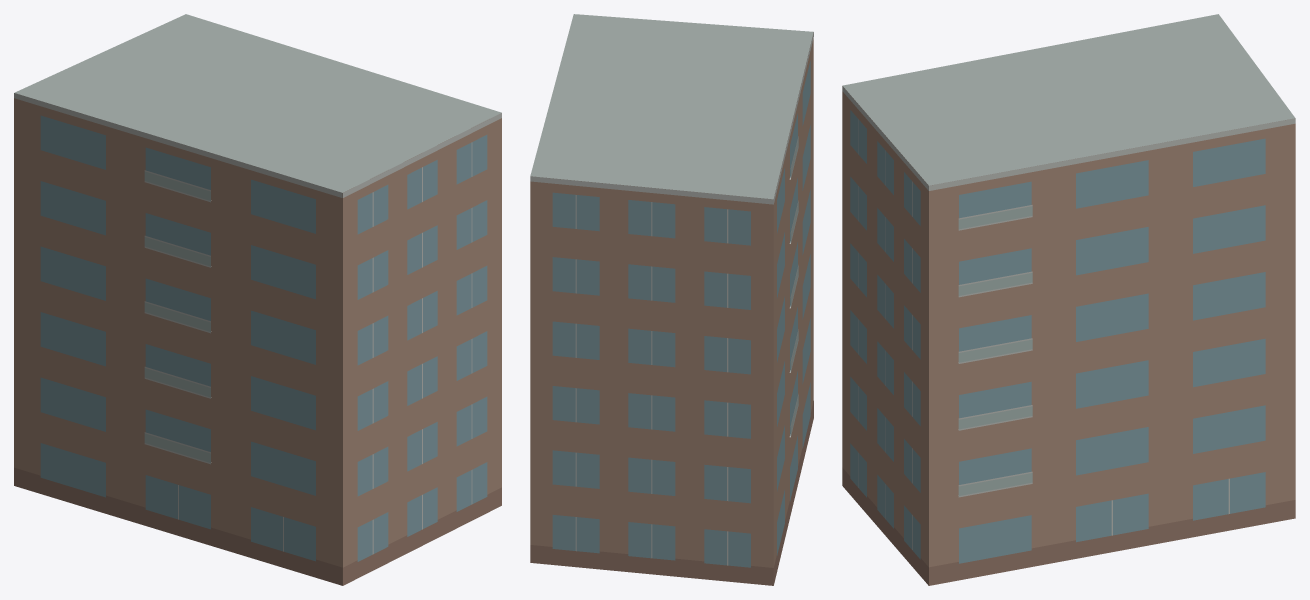
Rendered from survey-upis-32953123.glb.
3 views of the same model, side by side, from view 1: azimuth 30°, elevation 25°; view 2: azimuth 150°, elevation 25°; view 3: azimuth 270°, elevation 25° (orthographic). The views are drawn at different scales.
Visible parts, largest first — view 1: survey-upis-32953123.tmp; view 2: survey-upis-32953123.tmp; view 3: survey-upis-32953123.tmp.
Boxes of the visible parts, box(x1,y1,x2,y2) form: survey-upis-32953123.tmp: box(14, 14, 501, 585); survey-upis-32953123.tmp: box(530, 14, 813, 585); survey-upis-32953123.tmp: box(842, 14, 1295, 585).
Size of the model in its own units: 16.57 by 18 by 18.48.
